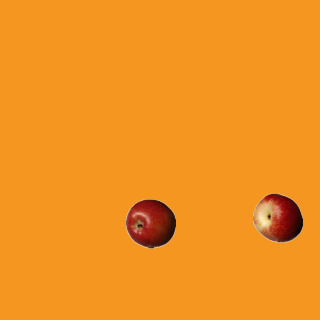Apple Braeburn: (125, 198, 175, 248)
Nectarine: (252, 192, 302, 242)
